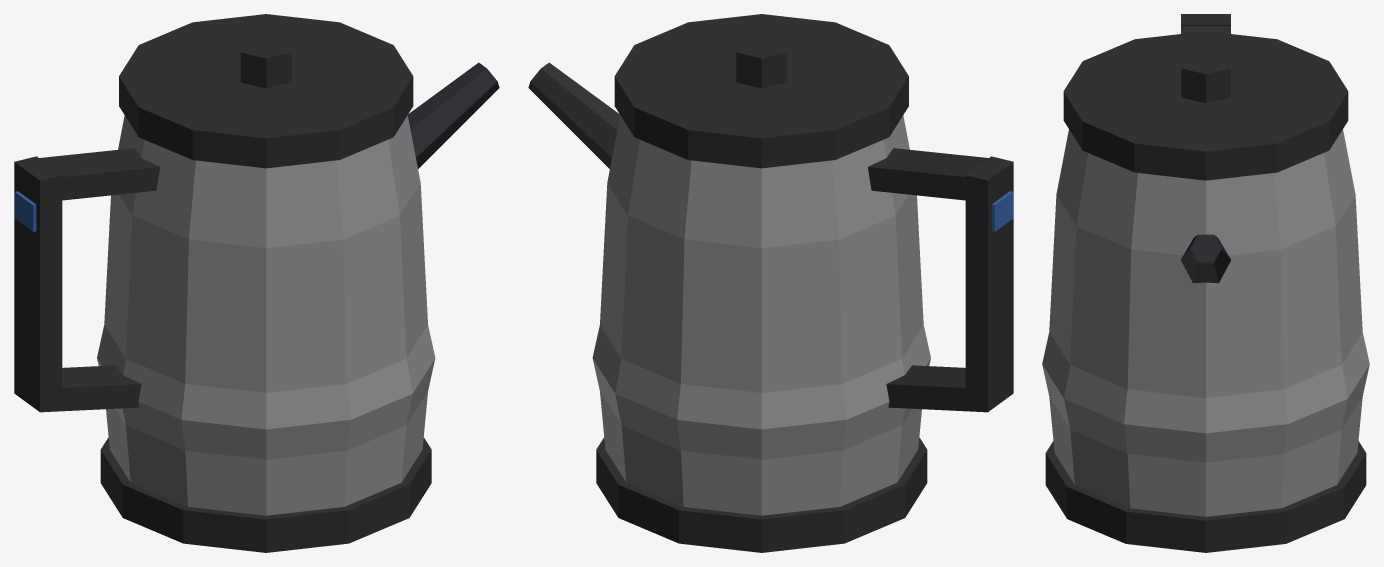
Rendered from FN_Kettle.obj.
3 views of the same model, side by side, from view 1: azimuth 30°, elevation 25°; view 2: azimuth 150°, elevation 25°; view 3: azimuth 270°, elevation 25° (orthographic). The views are drawn at different scales.
Parts seen in each view (by area): view 1: FN_Kettle; view 2: FN_Kettle; view 3: FN_Kettle.
Boxes of the visible parts, x1,y1,x2,y2 form: FN_Kettle: [14, 14, 499, 552]; FN_Kettle: [528, 14, 1013, 552]; FN_Kettle: [1042, 14, 1369, 552].
Size of the model in its own units: 0.2959 by 0.262 by 0.184.
1 material, 1 textured.
